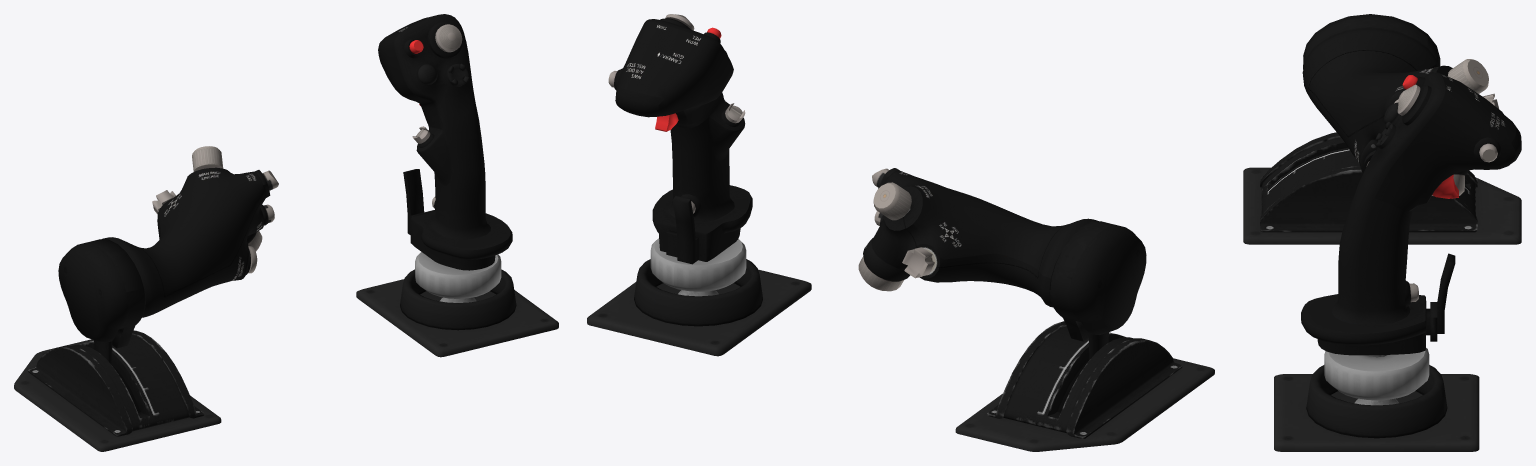
The picture shows the model from 3 angles, left to right: view 1: azimuth 30°, elevation 25°; view 2: azimuth 150°, elevation 25°; view 3: azimuth 270°, elevation 25°; orthographic projection. The views are drawn at different scales.
Visible parts, largest first — view 1: 0ad28aa7-9d3a-414b-bf46-a16146f0fc89, fcaa72ed-d745-4782-8eb1-80c46312cebe, ba969fec-b14f-4ab0-8e29-58c7d6029e06, f1fa1250-4135-4509-b73f-e0acf01fde3d, 8a62e694-0266-45fb-84a7-bd01e56dcc8b, c35dbc39-1a88-4b86-8fc0-15b9b1e59af1, 081e8f3b-273f-4e67-a821-1f1085e3bd2c, b432f757-05e3-43de-9353-5437216b728f, 54543b05-e23b-4c38-ae84-af0ad33655a0, 558e4c00-052c-46ba-8a8f-bef9c0e9f9ff, 762a4365-645a-4ca7-a2a4-5e41607a4d5e, 53d70e18-8663-4a9e-ac6f-db5c74c63827 (+1 smaller); view 2: 0ad28aa7-9d3a-414b-bf46-a16146f0fc89, fcaa72ed-d745-4782-8eb1-80c46312cebe, ba969fec-b14f-4ab0-8e29-58c7d6029e06, f1fa1250-4135-4509-b73f-e0acf01fde3d, 081e8f3b-273f-4e67-a821-1f1085e3bd2c, 8a62e694-0266-45fb-84a7-bd01e56dcc8b, c35dbc39-1a88-4b86-8fc0-15b9b1e59af1, b432f757-05e3-43de-9353-5437216b728f, 54543b05-e23b-4c38-ae84-af0ad33655a0, 558e4c00-052c-46ba-8a8f-bef9c0e9f9ff, 762a4365-645a-4ca7-a2a4-5e41607a4d5e, 53d70e18-8663-4a9e-ac6f-db5c74c63827 (+1 smaller); view 3: 0ad28aa7-9d3a-414b-bf46-a16146f0fc89, fcaa72ed-d745-4782-8eb1-80c46312cebe, f1fa1250-4135-4509-b73f-e0acf01fde3d, ba969fec-b14f-4ab0-8e29-58c7d6029e06, 081e8f3b-273f-4e67-a821-1f1085e3bd2c, b432f757-05e3-43de-9353-5437216b728f, 54543b05-e23b-4c38-ae84-af0ad33655a0, c35dbc39-1a88-4b86-8fc0-15b9b1e59af1, 558e4c00-052c-46ba-8a8f-bef9c0e9f9ff, 762a4365-645a-4ca7-a2a4-5e41607a4d5e, 53d70e18-8663-4a9e-ac6f-db5c74c63827, 8a62e694-0266-45fb-84a7-bd01e56dcc8b (+3 smaller).
Part boxes in pixels (x1,y1,x2,y2): 0ad28aa7-9d3a-414b-bf46-a16146f0fc89: (378, 14, 512, 270); fcaa72ed-d745-4782-8eb1-80c46312cebe: (102, 167, 270, 317); ba969fec-b14f-4ab0-8e29-58c7d6029e06: (28, 330, 204, 436); f1fa1250-4135-4509-b73f-e0acf01fde3d: (356, 279, 558, 357); 8a62e694-0266-45fb-84a7-bd01e56dcc8b: (58, 243, 127, 342); c35dbc39-1a88-4b86-8fc0-15b9b1e59af1: (72, 335, 189, 431); 081e8f3b-273f-4e67-a821-1f1085e3bd2c: (14, 339, 221, 451); b432f757-05e3-43de-9353-5437216b728f: (400, 269, 516, 330); 54543b05-e23b-4c38-ae84-af0ad33655a0: (415, 252, 501, 298); 558e4c00-052c-46ba-8a8f-bef9c0e9f9ff: (83, 239, 145, 348); 762a4365-645a-4ca7-a2a4-5e41607a4d5e: (403, 169, 435, 234); 53d70e18-8663-4a9e-ac6f-db5c74c63827: (192, 146, 223, 171); 0ad28aa7-9d3a-414b-bf46-a16146f0fc89: (614, 18, 752, 261); fcaa72ed-d745-4782-8eb1-80c46312cebe: (863, 168, 1098, 307); ba969fec-b14f-4ab0-8e29-58c7d6029e06: (987, 321, 1182, 438); f1fa1250-4135-4509-b73f-e0acf01fde3d: (587, 269, 811, 356); 081e8f3b-273f-4e67-a821-1f1085e3bd2c: (955, 358, 1214, 451); 8a62e694-0266-45fb-84a7-bd01e56dcc8b: (1069, 226, 1146, 334); c35dbc39-1a88-4b86-8fc0-15b9b1e59af1: (1003, 326, 1133, 433); b432f757-05e3-43de-9353-5437216b728f: (634, 259, 762, 326); 54543b05-e23b-4c38-ae84-af0ad33655a0: (650, 238, 746, 291); 558e4c00-052c-46ba-8a8f-bef9c0e9f9ff: (1049, 221, 1119, 341); 762a4365-645a-4ca7-a2a4-5e41607a4d5e: (666, 196, 698, 264); 53d70e18-8663-4a9e-ac6f-db5c74c63827: (873, 182, 911, 220); 0ad28aa7-9d3a-414b-bf46-a16146f0fc89: (1301, 72, 1521, 355); fcaa72ed-d745-4782-8eb1-80c46312cebe: (1302, 29, 1468, 175); f1fa1250-4135-4509-b73f-e0acf01fde3d: (1274, 374, 1479, 451); ba969fec-b14f-4ab0-8e29-58c7d6029e06: (1260, 132, 1477, 232); 081e8f3b-273f-4e67-a821-1f1085e3bd2c: (1243, 167, 1521, 244); b432f757-05e3-43de-9353-5437216b728f: (1306, 365, 1447, 438); 54543b05-e23b-4c38-ae84-af0ad33655a0: (1324, 348, 1429, 400); c35dbc39-1a88-4b86-8fc0-15b9b1e59af1: (1261, 137, 1475, 215); 558e4c00-052c-46ba-8a8f-bef9c0e9f9ff: (1303, 17, 1440, 69); 762a4365-645a-4ca7-a2a4-5e41607a4d5e: (1426, 253, 1455, 341); 53d70e18-8663-4a9e-ac6f-db5c74c63827: (1447, 59, 1488, 93); 8a62e694-0266-45fb-84a7-bd01e56dcc8b: (1303, 14, 1440, 60).
Size of the model in its own units: 256 by 142 by 108.
1 material, 1 textured.
